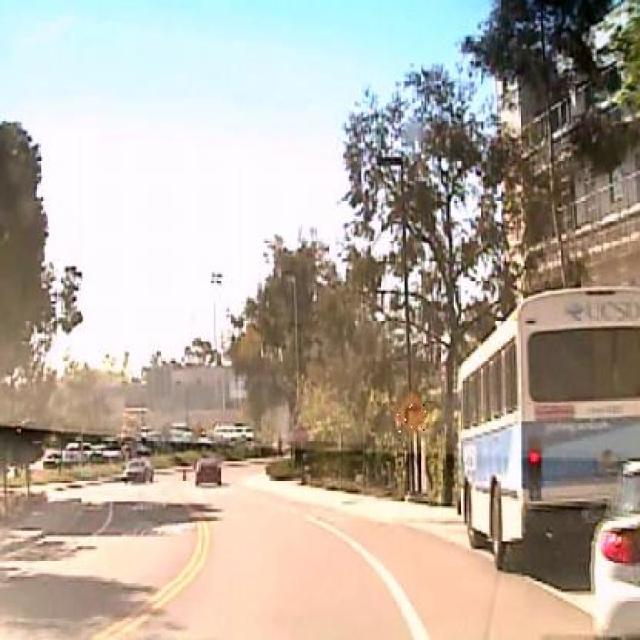turnRight: (396, 389, 428, 435)
